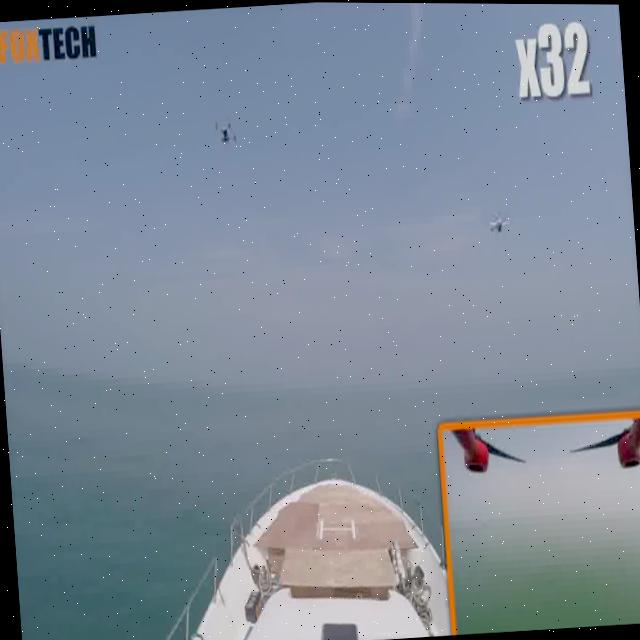drone: (204, 98, 250, 156), (482, 198, 518, 249)
